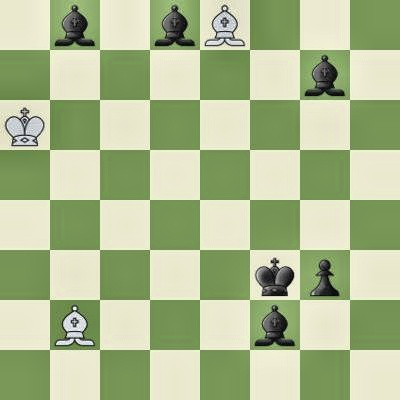black-bishop: (50, 0, 100, 50), (150, 0, 200, 50), (300, 50, 350, 100), (250, 300, 300, 350)
black-king: (250, 250, 300, 300)
black-pawn: (300, 250, 350, 300)
white-bishop: (200, 0, 250, 50), (50, 300, 100, 350)
white-king: (0, 100, 50, 150)
